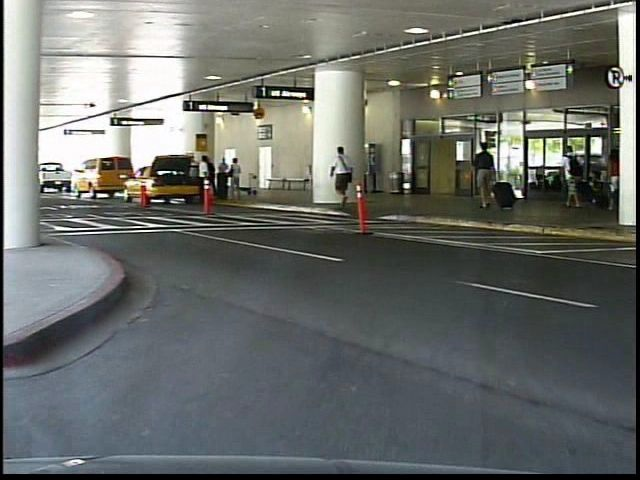person: (556, 138, 593, 218), (474, 139, 504, 215), (334, 145, 364, 211)
